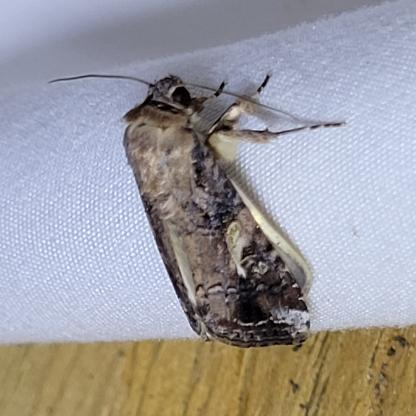Fall Armyworm Moth: (44, 67, 350, 353)
